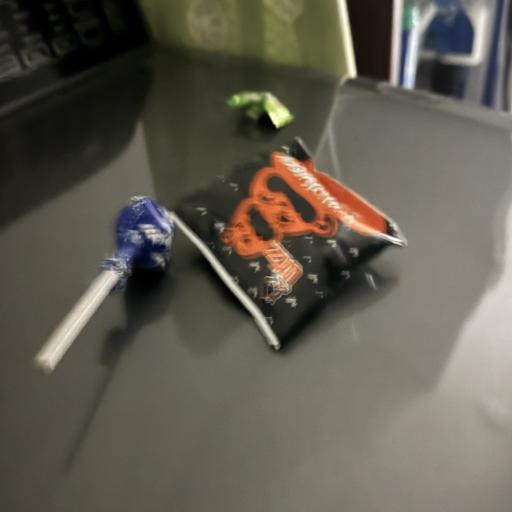chocolate: (173, 139, 405, 348), (34, 197, 174, 372), (228, 92, 293, 128)
